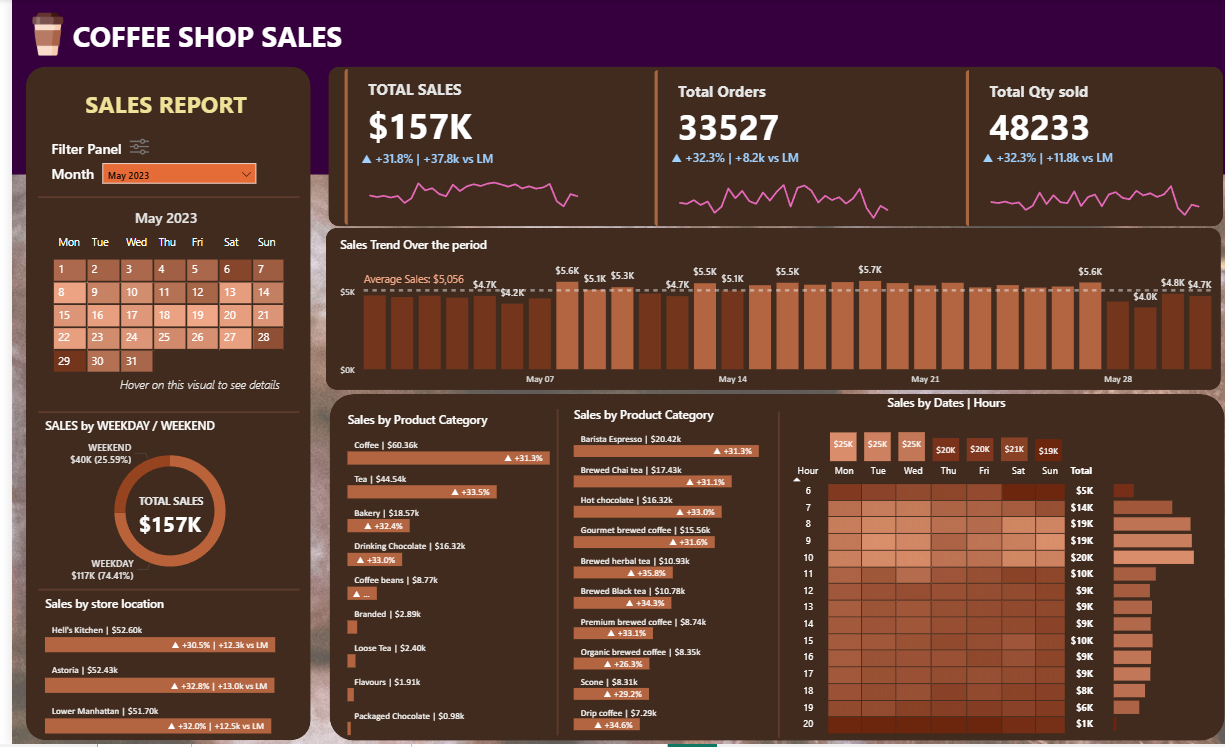

What the dashboard file says about the page in this screenshot:
{"tool":"powerbi","page":{"name":"Page 1","canvas":[1400,850],"ordinal":0},"visuals":[{"type":"shape","box":[0,0,1400.1,200],"z":0},{"type":"shape","box":[15.7,76.9,324.7,767.7],"z":1000},{"type":"shape","box":[360.3,76.9,1019.8,182.3],"z":2000},{"type":"textbox","box":[64.1,15.7,394.5,61.2],"z":3000},{"type":"cardVisual","fields":{"Data":["Transactions.TOTAL SALES"]},"box":[361.8,62.7,297.7,212.2],"z":4000,"group":"g1"},{"type":"cardVisual","fields":{"Data":["Transactions.Total Orders"]},"box":[715.7,64.1,297.7,212.2],"z":4000,"group":"g2"},{"type":"cardVisual","fields":{"Data":["Transactions.Total Qty sold"]},"box":[1069.6,64.1,297.7,212.2],"z":4000,"group":"g3"},{"type":"slicer","fields":{"Values":["DATE TABLE.MONTH YEAR"]},"box":[98.3,182.3,185.2,34.2],"z":4000},{"type":"cardVisual","fields":{"Data":["Transactions.TOTAL SALES"]},"box":[112.5,546.9,133.9,84],"z":5000},{"type":"group","id":"g1","title":"Group 1","box":[361.8,62.7,298,212.2],"z":6000},{"type":"lineChart","fields":{"Category":["DATE TABLE.Date.Variation.Date Hierarchy.Year","DATE TABLE.Date.Variation.Date Hierarchy.Quarter","DATE TABLE.Date.Variation.Date Hierarchy.Month","DATE TABLE.Date.Variation.Date Hierarchy.Day"],"Y":["Transactions.Total Orders"]},"box":[747,170.9,266.3,85.5],"z":6000,"group":"g2"},{"type":"lineChart","fields":{"Category":["DATE TABLE.Date.Variation.Date Hierarchy.Year","DATE TABLE.Date.Variation.Date Hierarchy.Quarter","DATE TABLE.Date.Variation.Date Hierarchy.Month","DATE TABLE.Date.Variation.Date Hierarchy.Day"],"Y":["Transactions.Total Qty sold"]},"box":[1100.9,170.9,266.3,85.5],"z":6000,"group":"g3"},{"type":"lineChart","fields":{"Category":["DATE TABLE.Date.Variation.Date Hierarchy.Year","DATE TABLE.Date.Variation.Date Hierarchy.Quarter","DATE TABLE.Date.Variation.Date Hierarchy.Month","DATE TABLE.Date.Variation.Date Hierarchy.Day"],"Y":["Transactions.TOTAL SALES"]},"box":[393.5,172.8,266.3,85.5],"z":6000,"group":"g1"},{"type":"group","id":"g2","title":"Group 1","box":[715.7,64.1,297.7,212.2],"z":7000},{"type":"group","id":"g3","title":"Group 1","box":[1069.6,64.1,297.7,212.2],"z":8000},{"type":"pivotTable","fields":{"Rows":["DATE TABLE.Week Number"],"Columns":["DATE TABLE.DAY NAME"],"Values":["Min(DATE TABLE.Day Number)"]},"box":[15.7,260.6,304.8,203.7],"z":9000},{"type":"cardVisual","fields":{"Data":["Min(DATE TABLE.MONTH YEAR)"]},"box":[111.2,218.8,131.2,56.2],"z":10000},{"type":"shape","box":[22.5,285,17.5,12.5],"z":11000},{"type":"cardVisual","fields":{"Data":["Transactions.Foot Note"]},"box":[94,411.6,267.8,52.7],"z":12000},{"type":"shape","box":[29.9,464.3,297.7,12.8],"z":13000},{"type":"shape","box":[29.9,219.3,297.7,12.8],"z":14000},{"type":"donutChart","title":"SALES by WEEKDAY / WEEKEND","fields":{"Category":["DATE TABLE.WEEKDAY / WEEKEND"],"Y":["Transactions.TOTAL SALES"]},"box":[32.8,477.1,294.8,195.1],"z":15000},{"type":"clusteredBarChart","title":"Sales by store location ","fields":{"Category":["Transactions.store_location"],"Y":["Transactions.Placeholder","Transactions.TOTAL SALES"]},"box":[32.8,679.4,297.7,165.2],"z":16000},{"type":"shape","box":[29.9,666.6,297.7,12.8],"z":17000},{"type":"shape","box":[357.5,261.2,1020,185],"z":18000},{"type":"shape","box":[361.2,450,1020,395],"z":19000},{"type":"columnChart","title":"Sales Trend Over the period","fields":{"Category":["Transactions.transaction_date"],"Y":["Transactions.TOTAL SALES"]},"box":[368.9,270.6,1007,179.5],"z":20000},{"type":"clusteredBarChart","title":"Sales by Product Category","fields":{"Y":["Transactions.Placeholder","Transactions.TOTAL SALES"],"Category":["Transactions.product_category"]},"box":[377.4,470,269.2,374.6],"z":21000},{"type":"shape","box":[615.3,467.2,12.8,371.7],"z":22000},{"type":"clusteredBarChart","title":"Sales by Product Category","fields":{"Y":["Transactions.Placeholder","Transactions.TOTAL SALES"],"Category":["Transactions.product_type"]},"box":[635.2,464.3,252.1,374.6],"z":23000},{"type":"shape","box":[867.4,470,12.8,371.7],"z":24000},{"type":"pivotTable","fields":{"Rows":["Transactions.Hour"],"Columns":["DATE TABLE.DAY NAME"],"Values":["Transactions.TOTAL SALES"]},"box":[880.2,525.6,370.3,316.2],"z":25000},{"type":"barChart","fields":{"Category":["Transactions.Hour"],"Y":["Transactions.TOTAL SALES"]},"box":[1250,540,103,299],"z":26000},{"type":"columnChart","title":"Sales by Dates | Hours","fields":{"Y":["Transactions.TOTAL SALES"],"Category":["DATE TABLE.DAY NAME"]},"box":[927.5,450,275,82.5],"z":27000},{"type":"textbox","box":[78.3,96.9,199.4,57],"z":28000},{"type":"textbox","box":[39.9,182.3,71.2,35.6],"z":29000},{"type":"textbox","box":[39.9,153.8,126.8,35.6],"z":30000},{"type":"image","box":[133.9,153.8,22.8,28.5],"z":30001},{"type":"image","box":[7.1,15.7,66.9,48.4],"z":30002}]}

Visuals, with their boxes in screenshot pixels (x1, y1, x2, y2), scaled from the page's 1400x850 canvas onto the 1225x747 screenshot:
shape: select_region(0, 0, 1224, 176)
shape: select_region(14, 68, 298, 742)
shape: select_region(315, 68, 1208, 228)
textbox: select_region(56, 14, 401, 68)
cardVisual - Transactions.TOTAL SALES: select_region(317, 55, 577, 242)
cardVisual - Transactions.Total Orders: select_region(626, 56, 887, 243)
cardVisual - Transactions.Total Qty sold: select_region(936, 56, 1196, 243)
slicer - DATE TABLE.MONTH YEAR: select_region(86, 160, 248, 190)
cardVisual - Transactions.TOTAL SALES: select_region(98, 481, 216, 554)
"Group 1" group: select_region(317, 55, 577, 242)
lineChart - DATE TABLE.Date.Variation.Date Hierarchy.Year x DATE TABLE.Date.Variation.Date Hierarchy.Quarter: select_region(654, 150, 887, 225)
lineChart - DATE TABLE.Date.Variation.Date Hierarchy.Year x DATE TABLE.Date.Variation.Date Hierarchy.Quarter: select_region(963, 150, 1196, 225)
lineChart - DATE TABLE.Date.Variation.Date Hierarchy.Year x DATE TABLE.Date.Variation.Date Hierarchy.Quarter: select_region(344, 152, 577, 227)
"Group 1" group: select_region(626, 56, 887, 243)
"Group 1" group: select_region(936, 56, 1196, 243)
pivotTable - DATE TABLE.Week Number x DATE TABLE.DAY NAME: select_region(14, 229, 280, 408)
cardVisual - Min(DATE TABLE.MONTH YEAR): select_region(97, 192, 212, 242)
shape: select_region(20, 250, 35, 261)
cardVisual - Transactions.Foot Note: select_region(82, 362, 317, 408)
shape: select_region(26, 408, 287, 419)
shape: select_region(26, 193, 287, 204)
"SALES by WEEKDAY / WEEKEND" donutChart: select_region(29, 419, 287, 591)
"Sales by store location " clusteredBarChart: select_region(29, 597, 289, 742)
shape: select_region(26, 586, 287, 597)
shape: select_region(313, 230, 1205, 392)
shape: select_region(316, 395, 1209, 743)
"Sales Trend Over the period" columnChart: select_region(323, 238, 1204, 396)
"Sales by Product Category" clusteredBarChart: select_region(330, 413, 566, 742)
shape: select_region(538, 411, 550, 737)
"Sales by Product Category" clusteredBarChart: select_region(556, 408, 776, 737)
shape: select_region(759, 413, 770, 740)
pivotTable - Transactions.Hour x DATE TABLE.DAY NAME: select_region(770, 462, 1094, 740)
barChart - Transactions.Hour x Transactions.TOTAL SALES: select_region(1094, 475, 1184, 737)
"Sales by Dates | Hours" columnChart: select_region(812, 395, 1052, 468)
textbox: select_region(69, 85, 243, 135)
textbox: select_region(35, 160, 97, 191)
textbox: select_region(35, 135, 146, 166)
image: select_region(117, 135, 137, 160)
image: select_region(6, 14, 65, 56)
